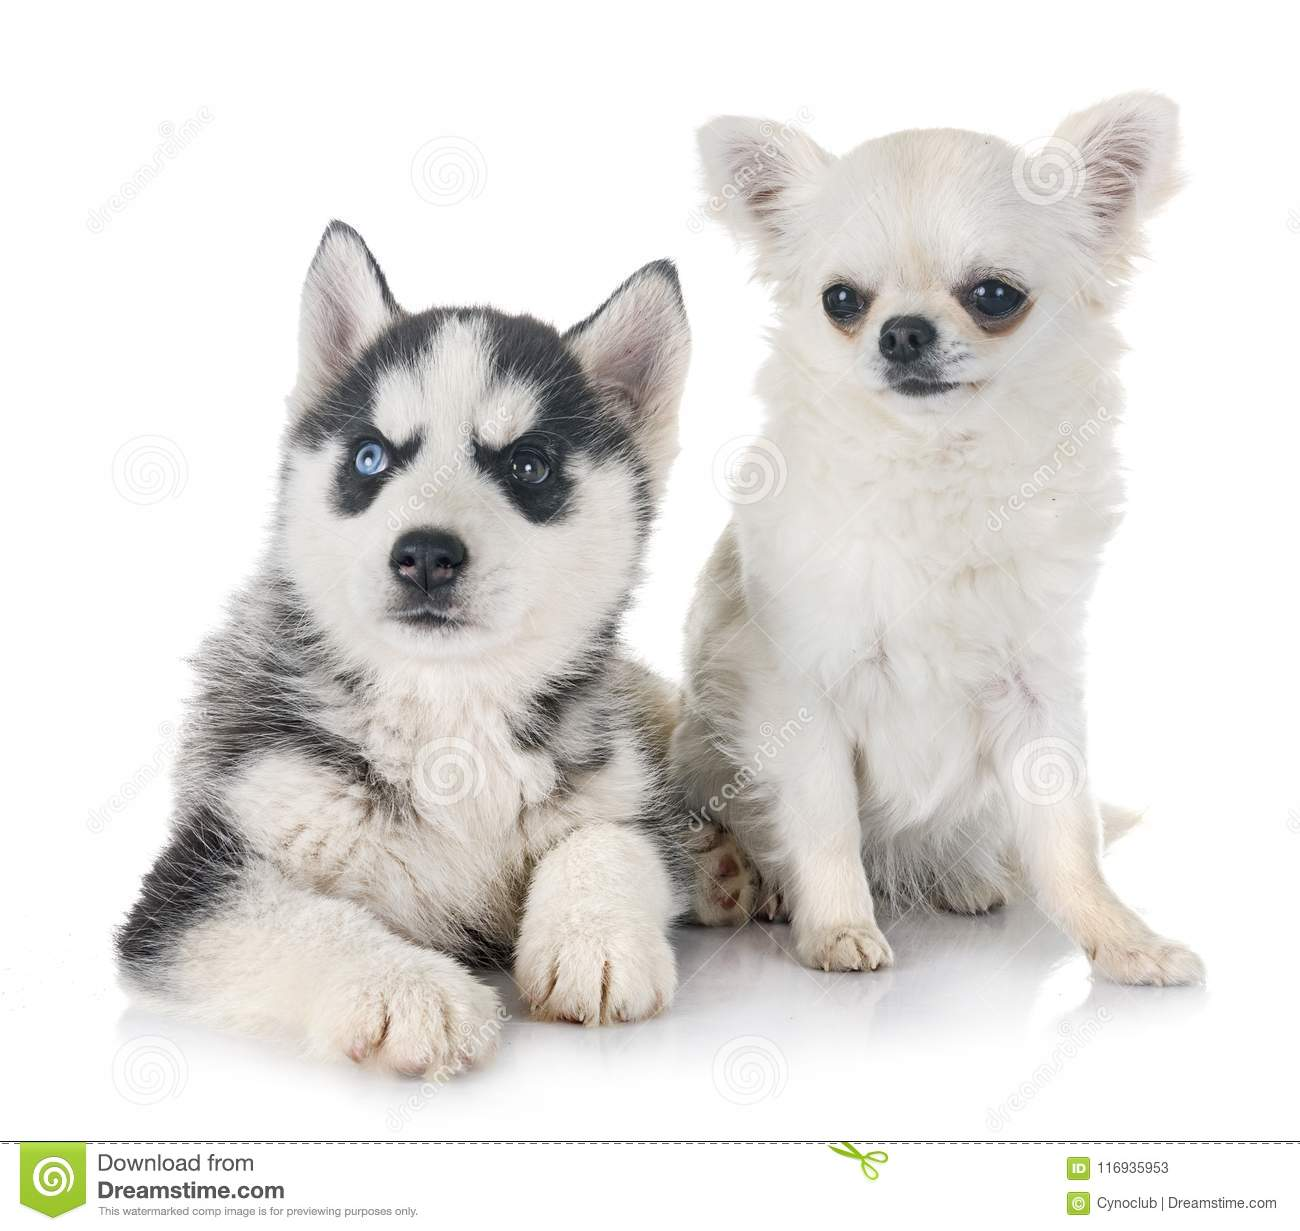husky: (177, 202, 699, 976)
